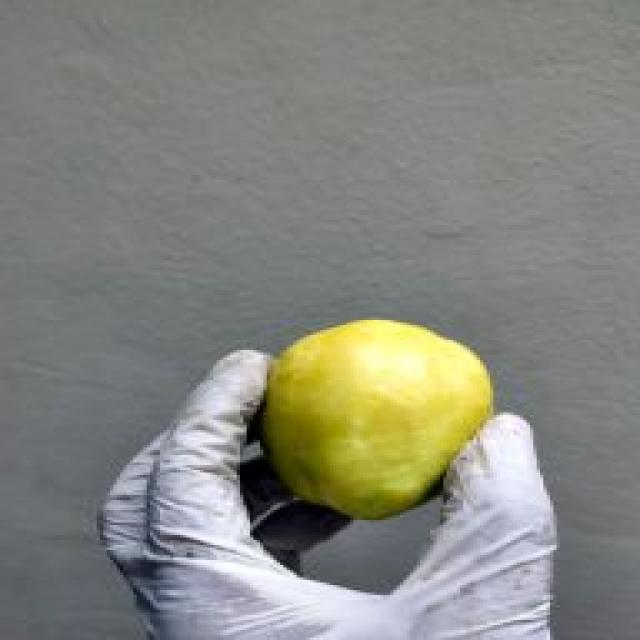Good_Guava: (247, 320, 497, 525)
